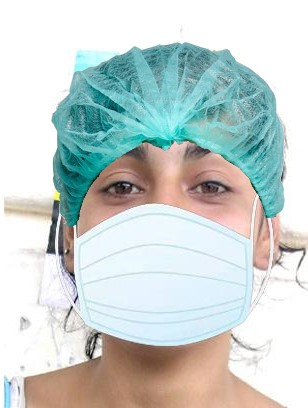with_mask_and_cap: (56, 45, 278, 348)
